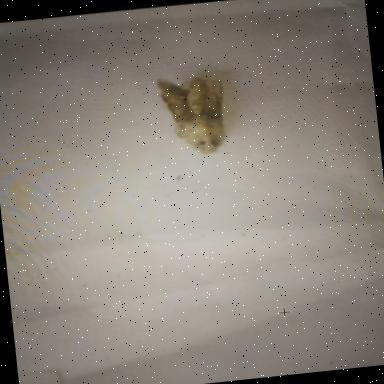pbw: (154, 72, 230, 161)
